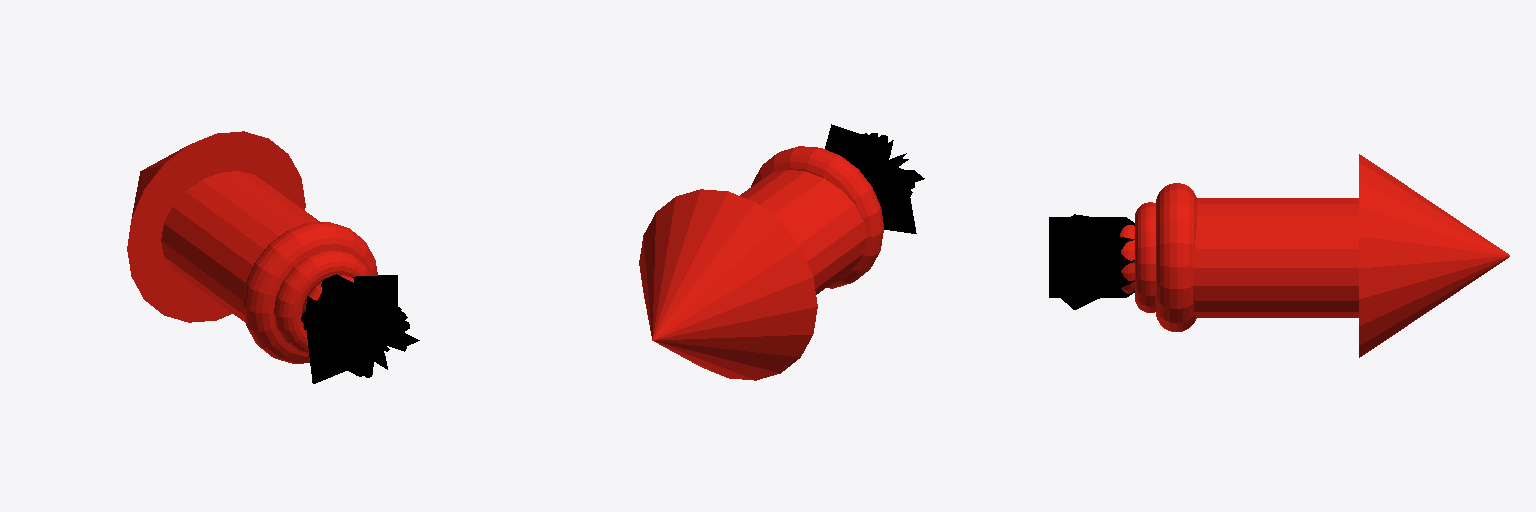
File: rocket.obj
3 views of the same model, side by side, from view 1: azimuth 30°, elevation 25°; view 2: azimuth 150°, elevation 25°; view 3: azimuth 270°, elevation 25° (orthographic).
Parts seen in each view (by area): view 1: pCone1, pPipe1, pCylinder1, pTorus1, pasted__pTorus1 group; view 2: pCone1, pPipe1, pCylinder1, pTorus1; view 3: pPipe1, pCone1, pCylinder1, pTorus1, pasted__pTorus1 group, pasted__pasted__pTorus1 pasted__group group1.
Part boxes in pixels (bbox=[...]): pCone1: bbox=[127, 131, 305, 322]; pPipe1: bbox=[161, 171, 319, 322]; pCylinder1: bbox=[301, 274, 419, 383]; pTorus1: bbox=[243, 222, 377, 363]; pasted__pTorus1 group: bbox=[274, 250, 370, 354]; pCone1: bbox=[639, 189, 817, 380]; pPipe1: bbox=[740, 170, 866, 294]; pCylinder1: bbox=[825, 124, 924, 233]; pTorus1: bbox=[751, 146, 883, 288]; pPipe1: bbox=[1193, 198, 1358, 317]; pCone1: bbox=[1359, 154, 1509, 357]; pCylinder1: bbox=[1049, 214, 1134, 309]; pTorus1: bbox=[1156, 183, 1196, 331]; pasted__pTorus1 group: bbox=[1135, 202, 1155, 312]; pasted__pasted__pTorus1 pasted__group group1: bbox=[1120, 225, 1134, 293].
Size of the model in its own units: 3.1 by 3.1 by 6.94.